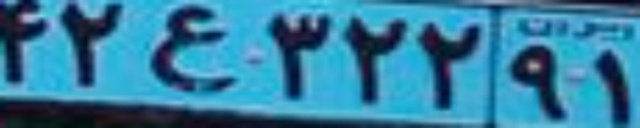1: (592, 48, 630, 125)
2: (417, 21, 482, 110), (340, 15, 403, 104), (57, 1, 122, 87)
3: (266, 11, 327, 101)
4: (0, 0, 52, 83)
9: (505, 42, 565, 121)
ain: (148, 3, 240, 93)
